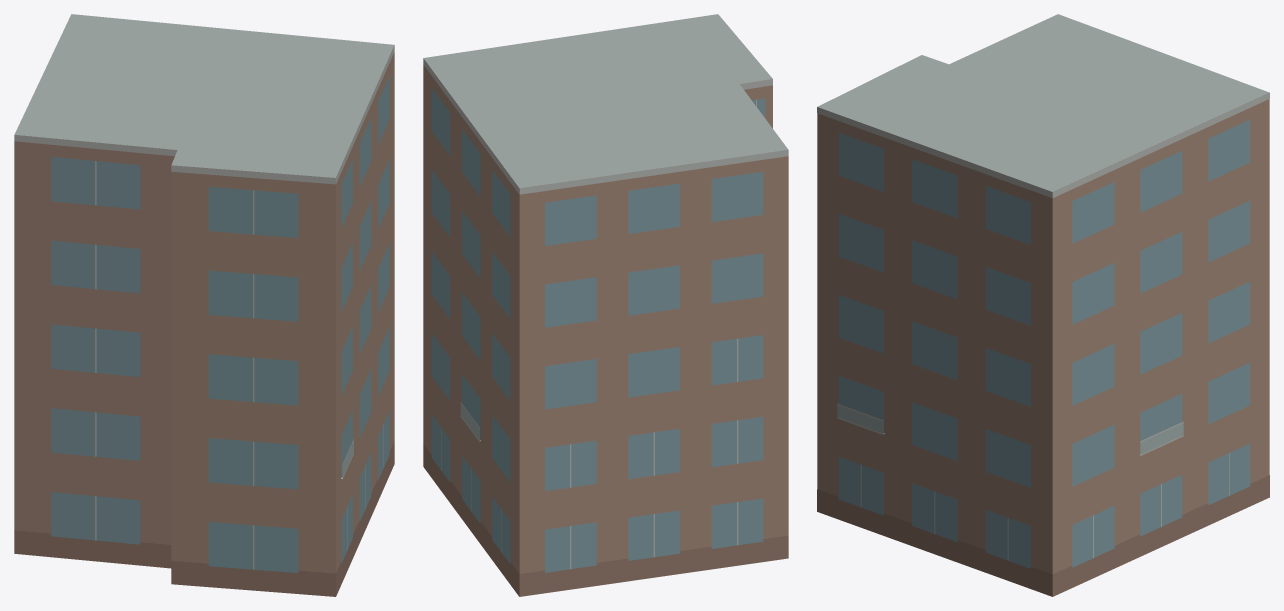
File: survey-upis-32913723.glb
3 views of the same model, side by side, from view 1: azimuth 30°, elevation 25°; view 2: azimuth 150°, elevation 25°; view 3: azimuth 270°, elevation 25° (orthographic). The views are drawn at different scales.
Visible parts, largest first — view 1: survey-upis-32913723.tmp; view 2: survey-upis-32913723.tmp; view 3: survey-upis-32913723.tmp.
Boxes of the visible parts, <box> form: survey-upis-32913723.tmp: <box>14,14,394,596</box>; survey-upis-32913723.tmp: <box>423,14,788,596</box>; survey-upis-32913723.tmp: <box>817,14,1269,596</box>.
Bounding box in the file's own units: 14.95 × 15.84 × 16.06.
